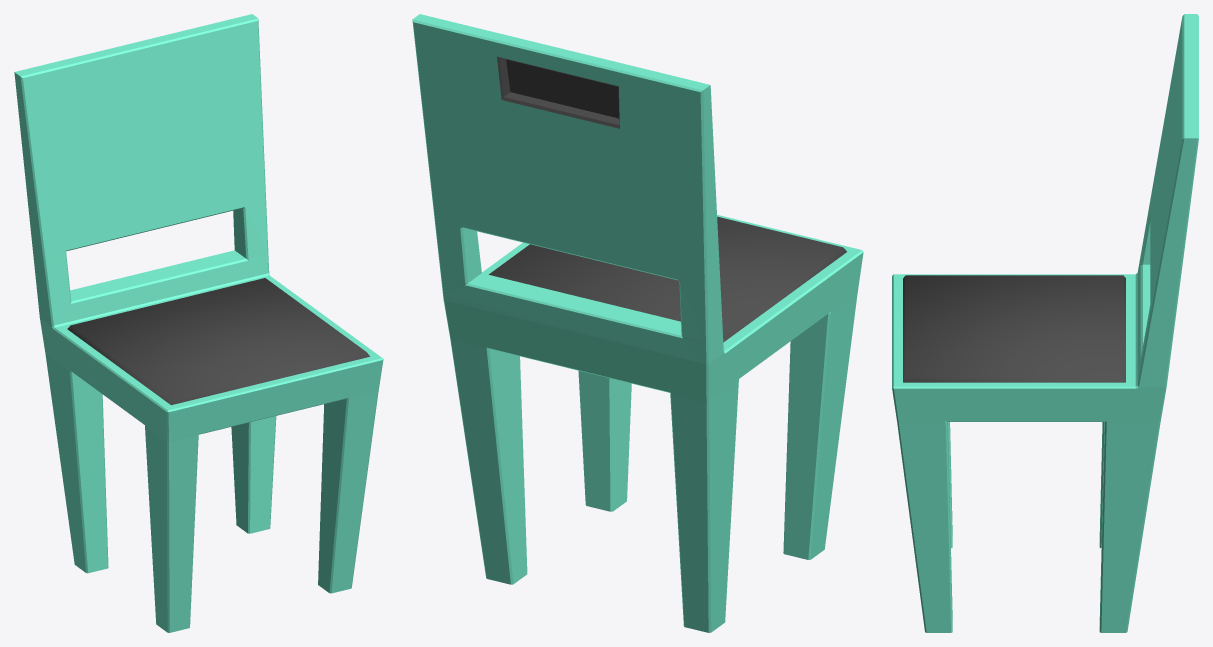
File: Chair_Gr_01.FBX
3 renders of one model, left to right at view 1: azimuth 30°, elevation 25°; view 2: azimuth 150°, elevation 25°; view 3: azimuth 270°, elevation 25°, orthographic. The views are drawn at different scales.
Parts seen in each view (by area): view 1: Chair_Gr_01; view 2: Chair_Gr_01; view 3: Chair_Gr_01.
Part boxes in pixels (box(x1,y1,x2,y2)): Chair_Gr_01: box(14, 14, 383, 632); Chair_Gr_01: box(412, 14, 863, 632); Chair_Gr_01: box(892, 14, 1198, 632).
Size of the model in its own units: 0.5255 by 1 by 0.548.
